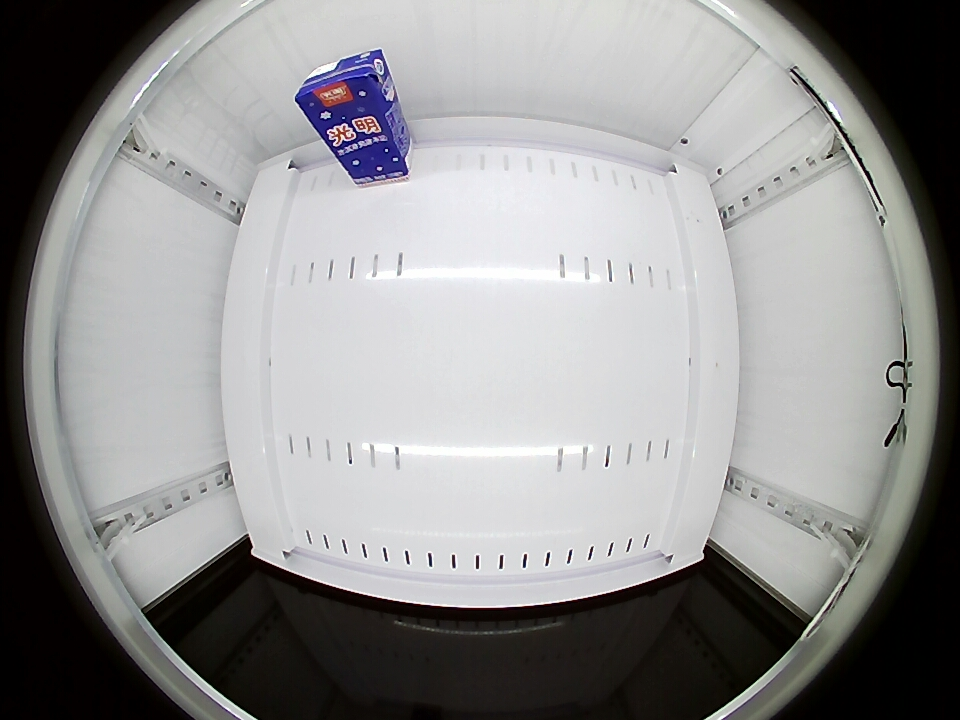bingqilinniunai: (294, 48, 392, 130)
